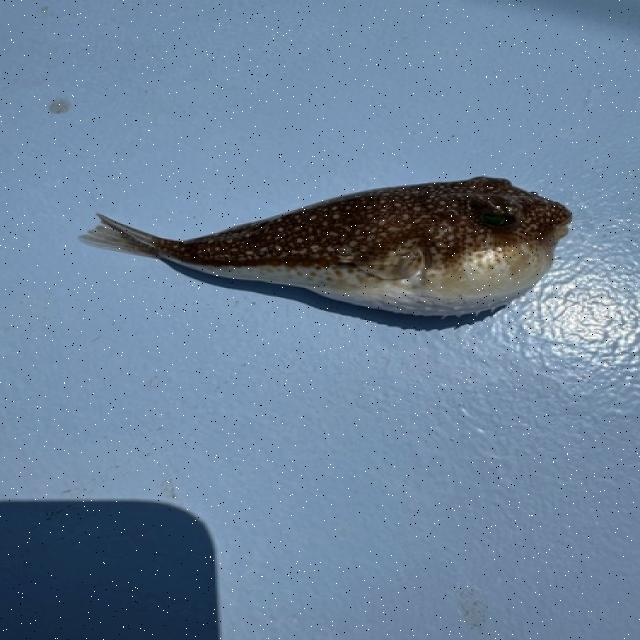Balik: (81, 177, 571, 316)
